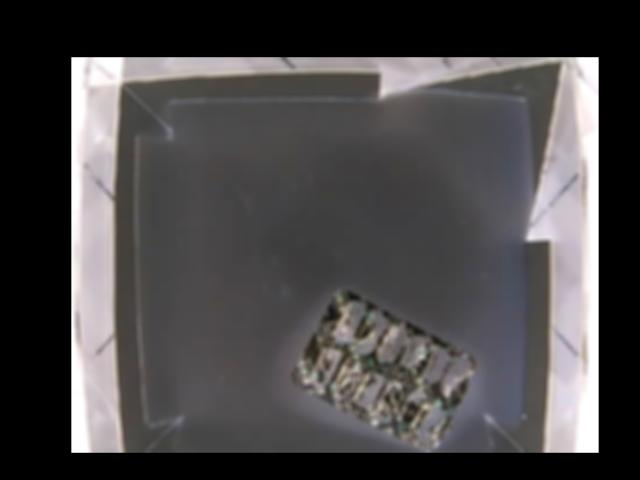Medicine: (287, 290, 473, 451)
